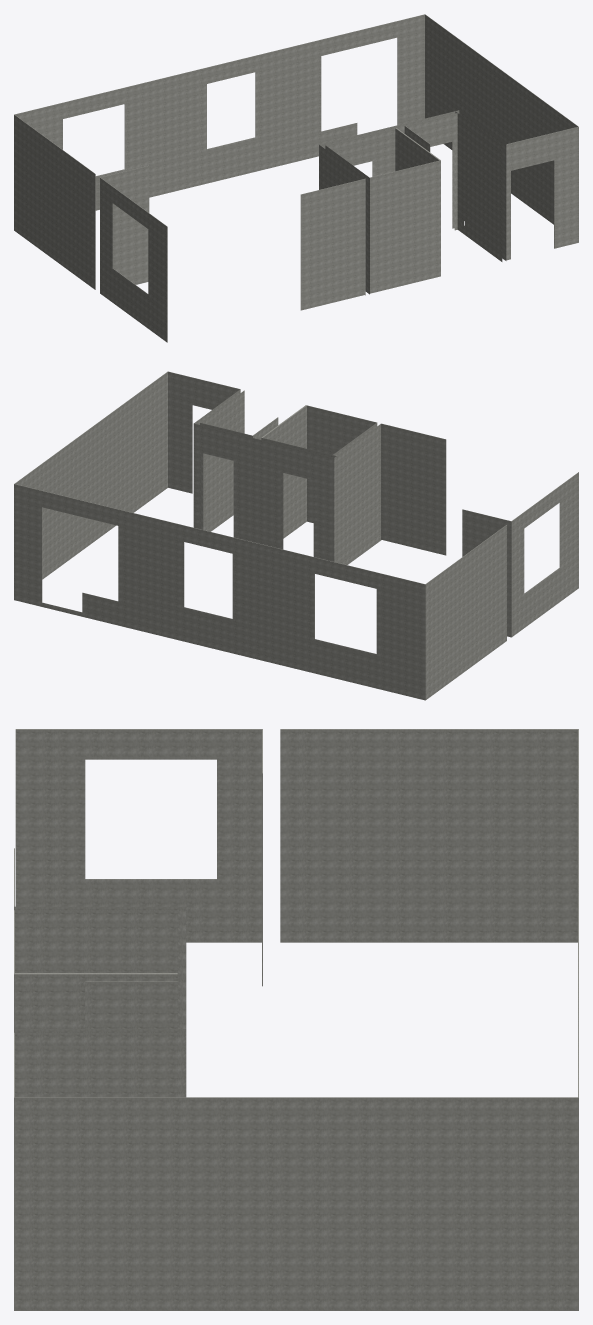
3 views of the same model, one above another, from view 1: azimuth 30°, elevation 25°; view 2: azimuth 150°, elevation 25°; view 3: azimuth 270°, elevation 25° (orthographic). The views are drawn at different scales.
Bounding box in the file's own units: 10.02 × 2.72 × 6.49.
Materials: 1 (1 with a texture image).
